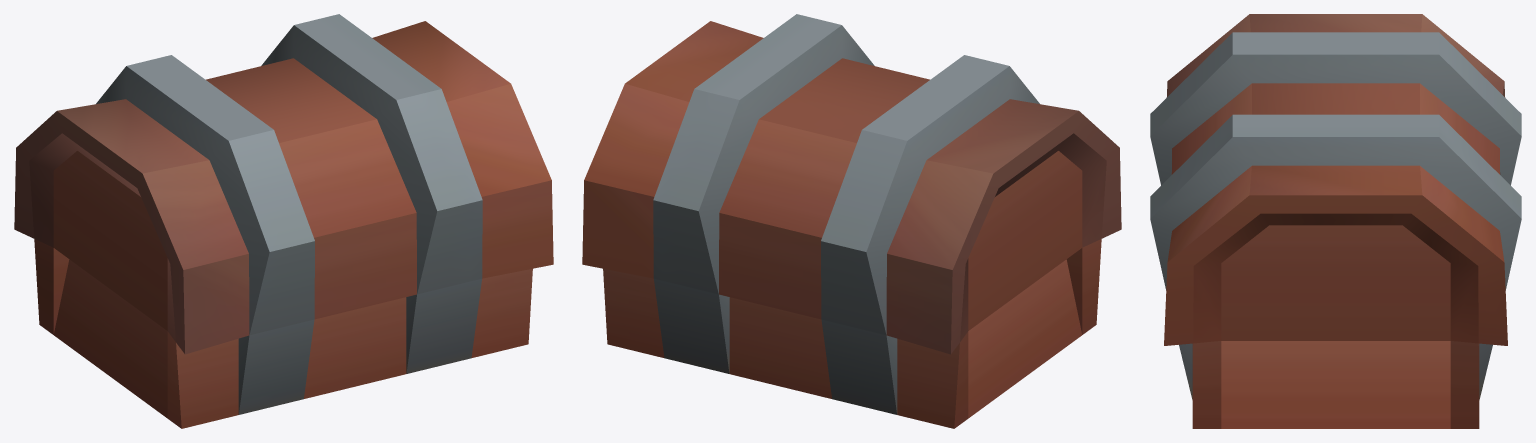
Rendered from kay-arca.gltf.
3 renders of one model, left to right at view 1: azimuth 30°, elevation 25°; view 2: azimuth 150°, elevation 25°; view 3: azimuth 270°, elevation 25°, orthographic.
Parts seen in each view (by area): view 1: trunk_large_A; view 2: trunk_large_A; view 3: trunk_large_A.
Boxes of the visible parts, box(x1,y1,x2,y2) form: trunk_large_A: box(14, 14, 553, 428); trunk_large_A: box(582, 14, 1121, 428); trunk_large_A: box(1150, 14, 1521, 428).
Size of the model in its own units: 0.975 by 0.65 by 0.845.
Materials: 1 (1 with a texture image).
